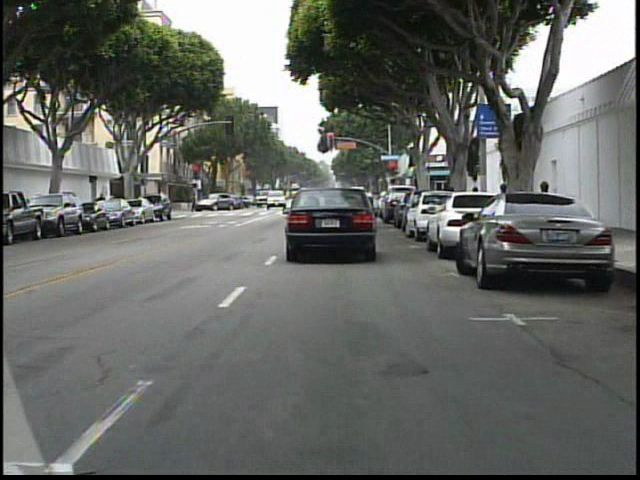person: (94, 189, 111, 224), (189, 190, 203, 214)
